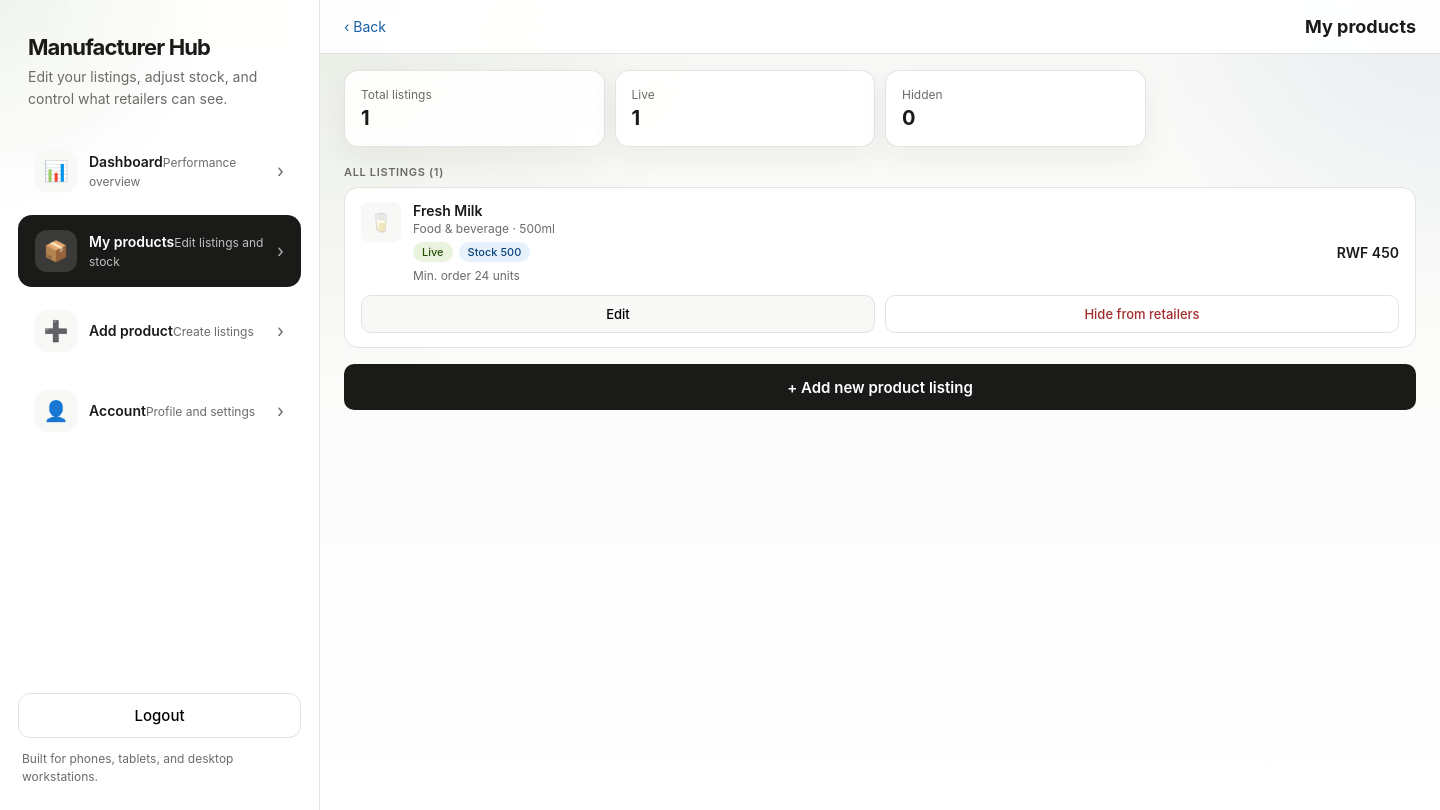
Test case: availability › leaves the product untouched when hiding fails
Expected: the text "Fresh Milk" is shown, [413, 202, 482, 219]
Click the button "Hide from retailers".
click(1142, 314)  # box [885, 295, 1399, 333]
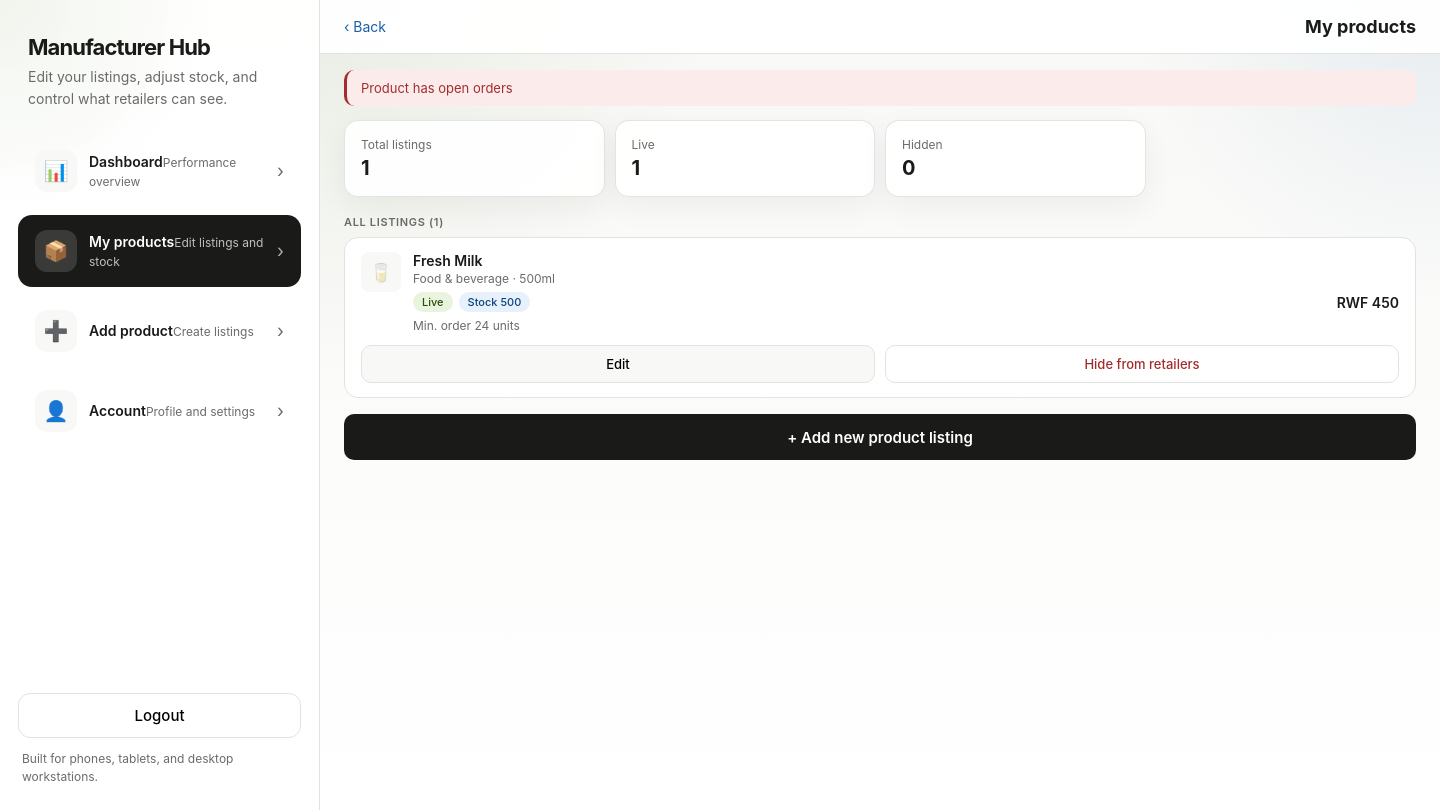
Expected: the text "Live" in the row of "RWF" is shown, [422, 295, 444, 309]
Result: the text "Product has open orders" is shown at [344, 70, 1416, 106]
